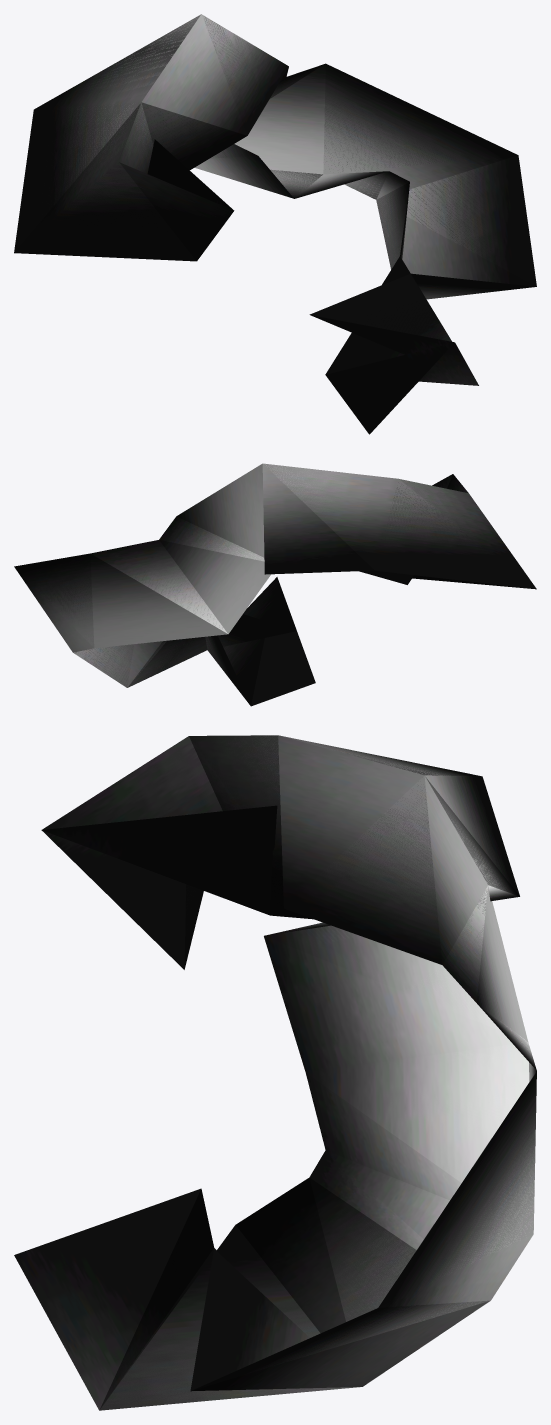
File: vfx_kurp_0570.dae
3 views of the same model, one above another, from view 1: azimuth 30°, elevation 25°; view 2: azimuth 150°, elevation 25°; view 3: azimuth 270°, elevation 25° (orthographic). The views are drawn at different scales.
Visible parts, largest first — view 1: vfx_kurp_0570; view 2: vfx_kurp_0570; view 3: vfx_kurp_0570.
Boxes of the visible parts, x1,y1,x2,y2 form: vfx_kurp_0570: (14,14,536,434); vfx_kurp_0570: (14,463,536,706); vfx_kurp_0570: (14,735,536,1410).
Bounding box in the file's own units: 11.26 × 6.07 × 6.8.
1 material, 1 textured.
